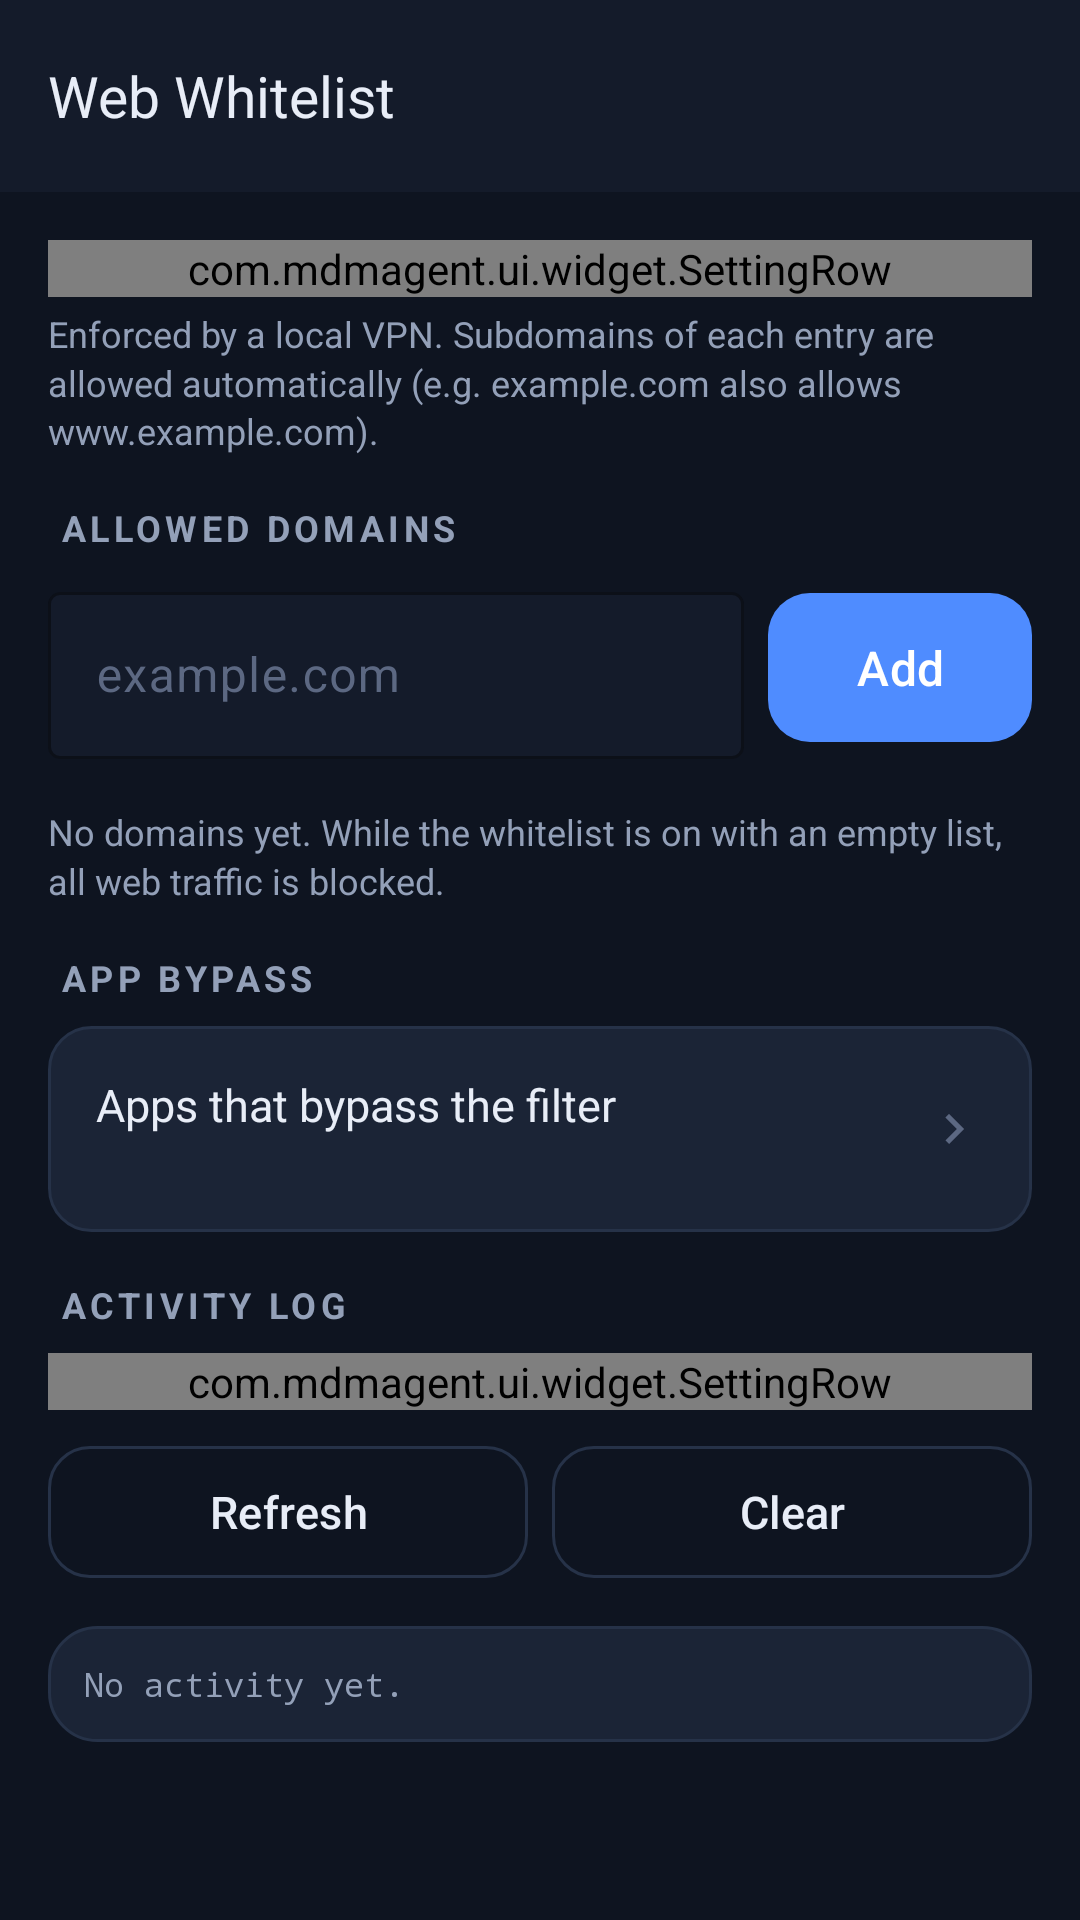

Where to tap for icons on this 1080×1920 app screen, as [x,y]:
chevron right: [954,1129]
